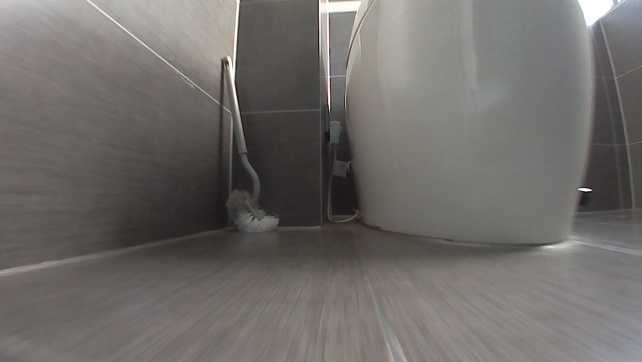toilet: (340, 0, 595, 245)
